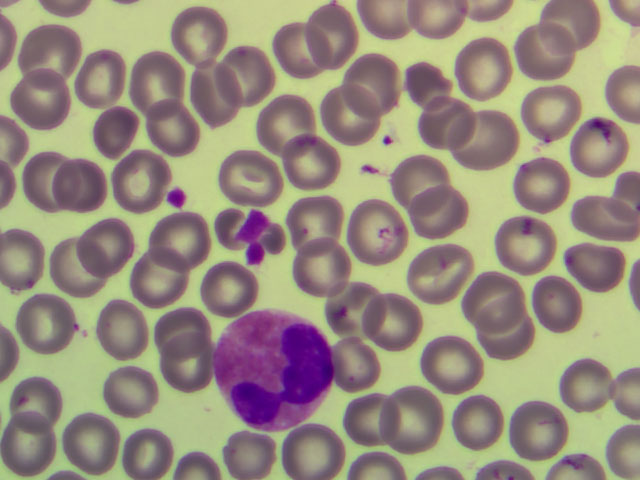Platelets: (240, 210, 261, 243), (240, 242, 266, 268), (167, 188, 185, 205)
RBC: (1, 418, 65, 480), (119, 418, 183, 480), (216, 418, 280, 480), (290, 418, 354, 480), (18, 20, 82, 81), (14, 75, 78, 136), (65, 44, 129, 105), (83, 97, 147, 158), (105, 47, 169, 108), (149, 108, 213, 169), (166, 1, 230, 62), (180, 57, 244, 118), (206, 45, 270, 106), (257, 26, 321, 87), (345, 43, 409, 104), (329, 85, 393, 146), (253, 86, 317, 147), (280, 125, 344, 186), (214, 141, 278, 202), (185, 203, 249, 264), (149, 213, 213, 274), (125, 253, 189, 314), (79, 215, 143, 276), (49, 248, 113, 309), (59, 157, 123, 218), (24, 147, 88, 208), (97, 151, 161, 212), (6, 224, 70, 285), (16, 299, 80, 360), (74, 302, 138, 363), (149, 295, 213, 356), (151, 332, 215, 393), (196, 253, 260, 314), (95, 358, 159, 419), (63, 408, 127, 469), (8, 364, 72, 425), (334, 387, 398, 448), (367, 385, 431, 446), (337, 337, 401, 398), (318, 276, 382, 337), (351, 286, 415, 347), (301, 242, 365, 303), (293, 193, 357, 254), (341, 202, 405, 263), (397, 186, 461, 247), (380, 148, 444, 209), (409, 93, 473, 154), (393, 53, 457, 114), (451, 40, 515, 101), (509, 23, 573, 84), (576, 60, 640, 121), (574, 120, 638, 181), (508, 85, 572, 146), (519, 151, 583, 212), (454, 111, 518, 172), (505, 217, 569, 278), (572, 188, 636, 249), (564, 237, 628, 298), (534, 273, 598, 334), (479, 307, 543, 368), (464, 263, 528, 324), (415, 237, 479, 298), (418, 329, 482, 390), (440, 392, 504, 453), (509, 403, 573, 464), (549, 352, 613, 413), (307, 1, 371, 61), (540, 1, 604, 61)
WBC: (217, 315, 335, 430)
